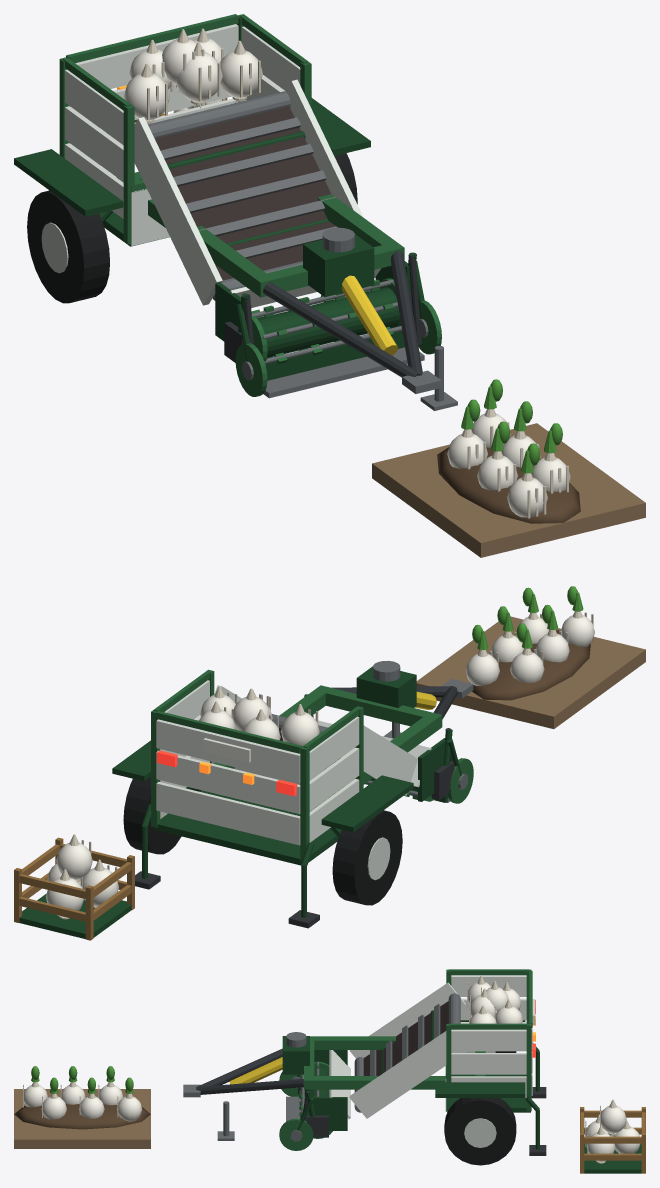
Rendered from garlic_harvester.glb.
The picture shows the model from 3 angles, top to bottom: view 1: azimuth 30°, elevation 25°; view 2: azimuth 150°, elevation 25°; view 3: azimuth 270°, elevation 25°; orthographic projection. The views are drawn at different scales.
Visible parts, largest first — view 1: GarlicBody, GarlicProps, GarlicPickup; view 2: GarlicBody, GarlicProps; view 3: GarlicBody, GarlicProps, GarlicPickup.
Part boxes in pixels (x1=…): GarlicBody: x1=14, y1=14, x2=457, y2=410; GarlicProps: x1=134, y1=98, x2=645, y2=557; GarlicPickup: x1=251, y1=278, x2=402, y2=364; GarlicBody: x1=112, y1=660, x2=473, y2=928; GarlicProps: x1=14, y1=586, x2=645, y2=940; GarlicBody: x1=183, y1=969, x2=546, y2=1165; GarlicProps: x1=14, y1=1066, x2=645, y2=1173; GarlicPickup: x1=299, y1=1061, x2=332, y2=1138.
Size of the model in its own units: 2.59 by 1.84 by 7.38.
